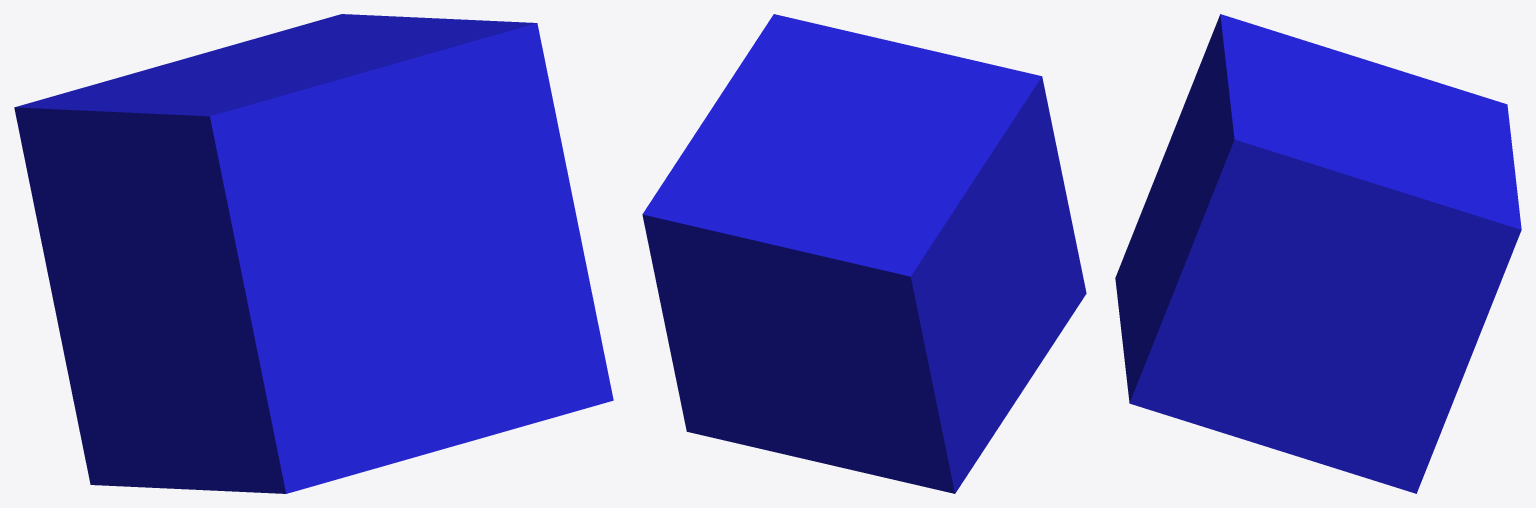
File: куб.glb
3 views of the same model, side by side, from view 1: azimuth 30°, elevation 25°; view 2: azimuth 150°, elevation 25°; view 3: azimuth 270°, elevation 25° (orthographic). The views are drawn at different scales.
Parts seen in each view (by area): view 1: Cube; view 2: Cube; view 3: Cube.
Boxes of the visible parts, x1=… form: Cube: x1=14, y1=14, x2=613, y2=493; Cube: x1=642, y1=14, x2=1086, y2=493; Cube: x1=1115, y1=14, x2=1521, y2=493.
Size of the model in its own units: 2.13 by 2.59 by 2.66.
